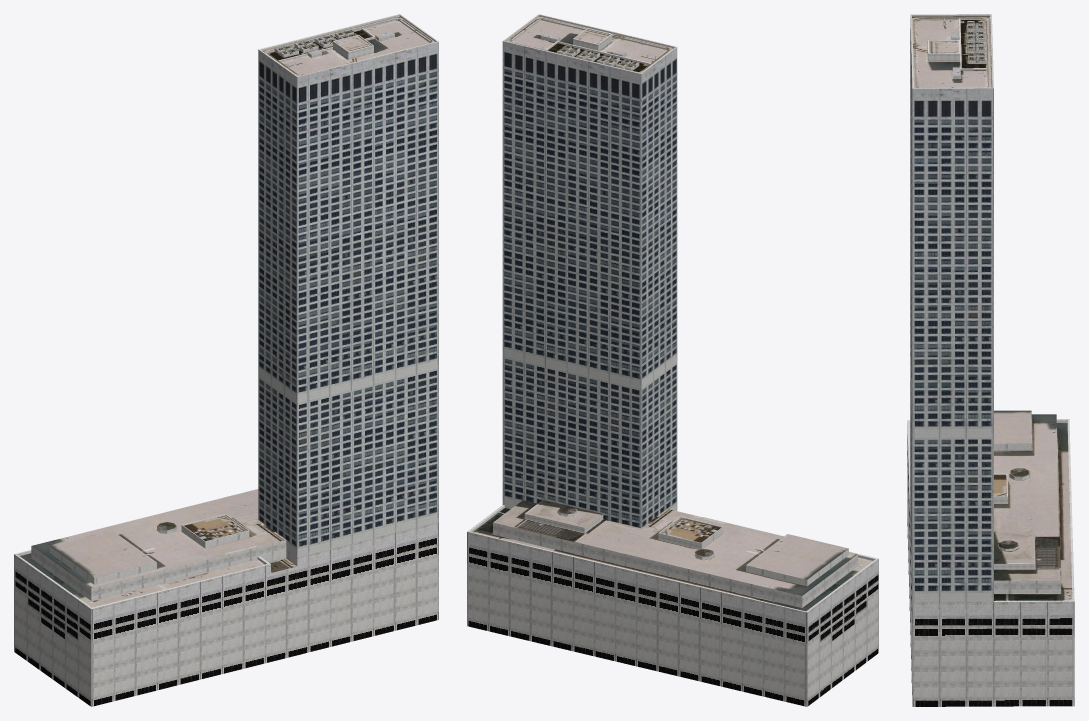
The model's file is Water-tower-Place.fbx.
3 renders of one model, left to right at view 1: azimuth 30°, elevation 25°; view 2: azimuth 150°, elevation 25°; view 3: azimuth 270°, elevation 25°, orthographic. The views are drawn at different scales.
Parts seen in each view (by area): view 1: Model; view 2: Model; view 3: Model.
Boxes of the visible parts, x1,y1,x2,y2 form: Model: [14, 14, 438, 706]; Model: [467, 14, 878, 706]; Model: [907, 14, 1074, 706].
Bounding box in the file's own units: 6336 × 10041 × 2440.
